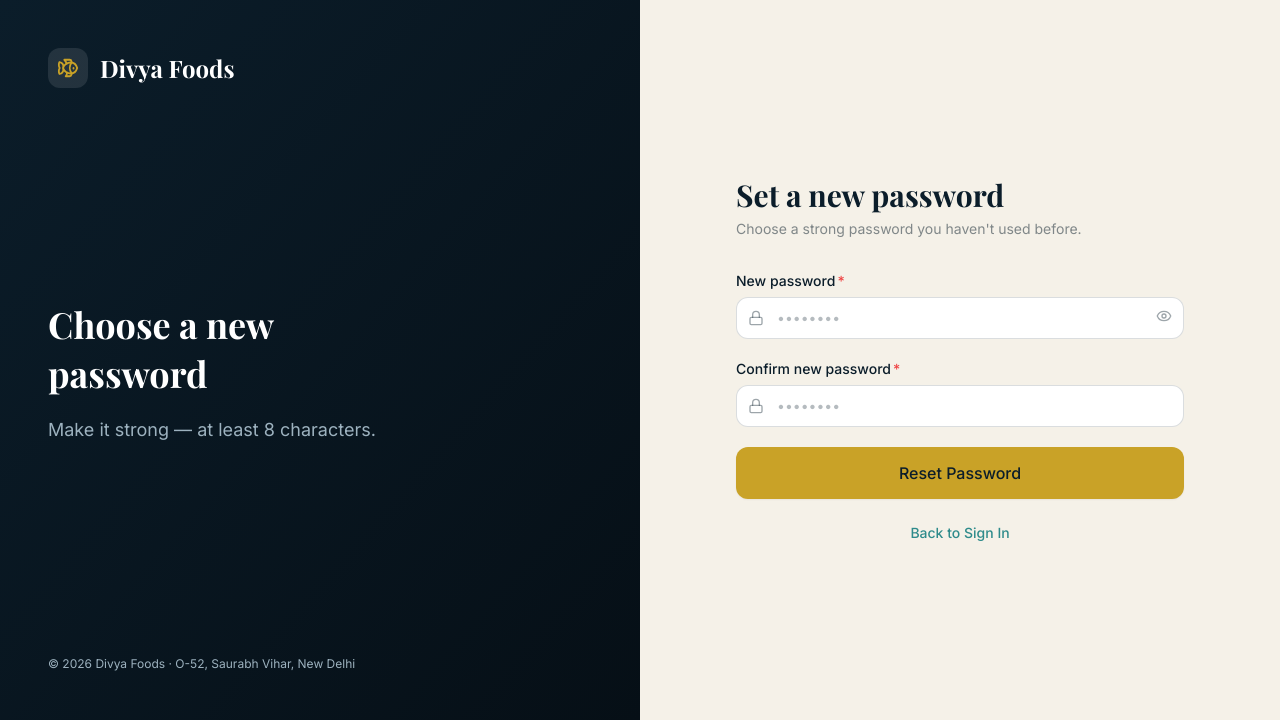
it: ResetPasswordPage › shows validation errors for an empty password
The image size is (1280, 720).
Click the button "Reset Password": click(960, 473) [736, 447, 1184, 499]
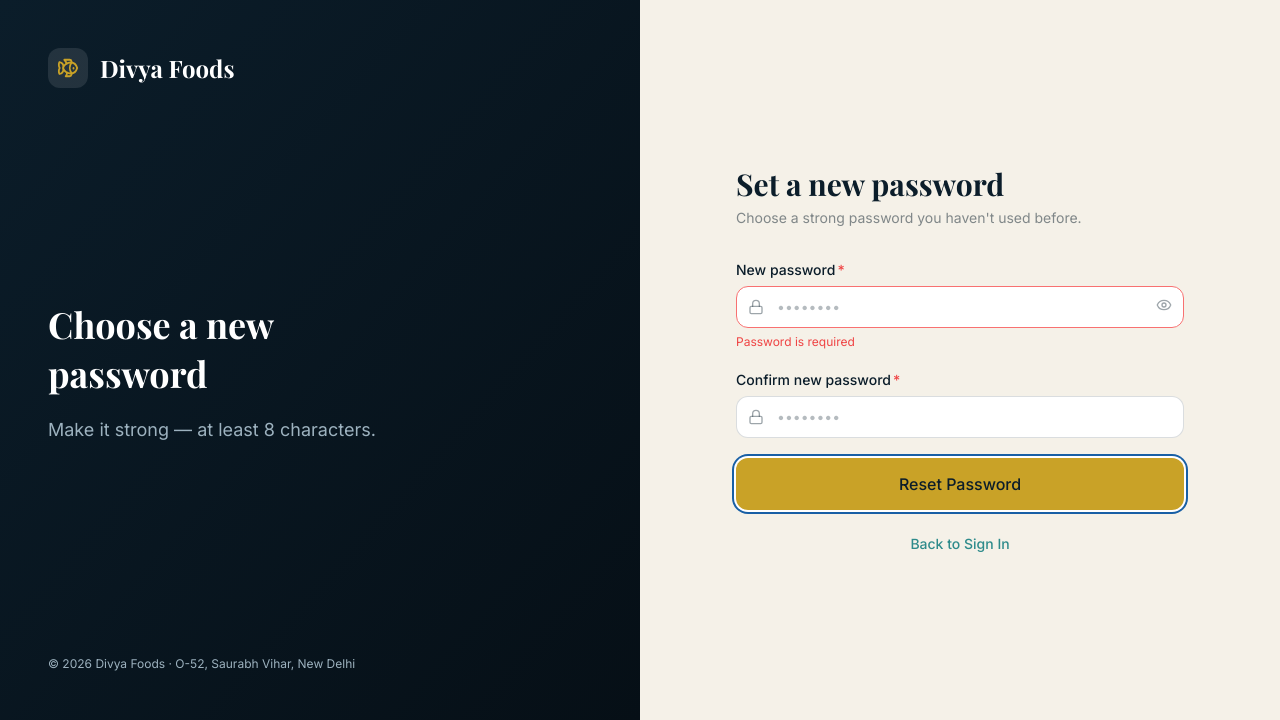
Expected: the text "Password is required" is shown, [736, 334, 855, 349]
